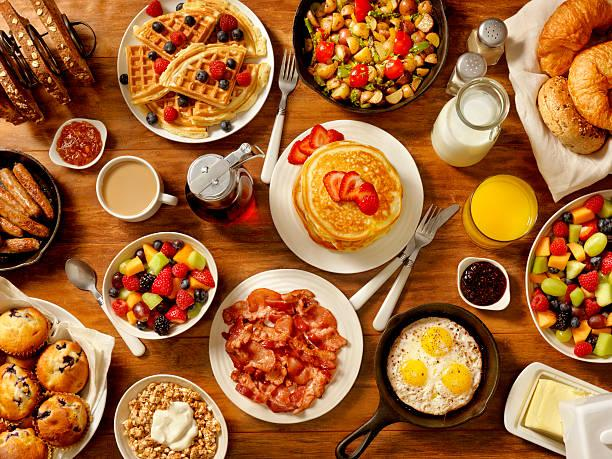Braised Crucian Carp: (207, 270, 356, 425), (267, 120, 416, 272), (117, 1, 273, 146), (290, 1, 445, 115), (378, 298, 504, 429), (100, 228, 223, 340), (108, 369, 228, 459)
